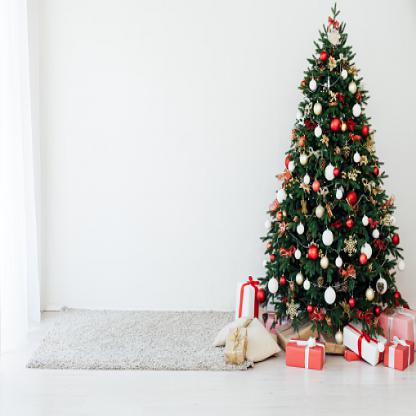present: (335, 323, 389, 379), (282, 331, 338, 373), (226, 316, 258, 369), (229, 265, 261, 315), (382, 302, 415, 346), (384, 340, 414, 372)
x_mas tree: (274, 12, 402, 329)
